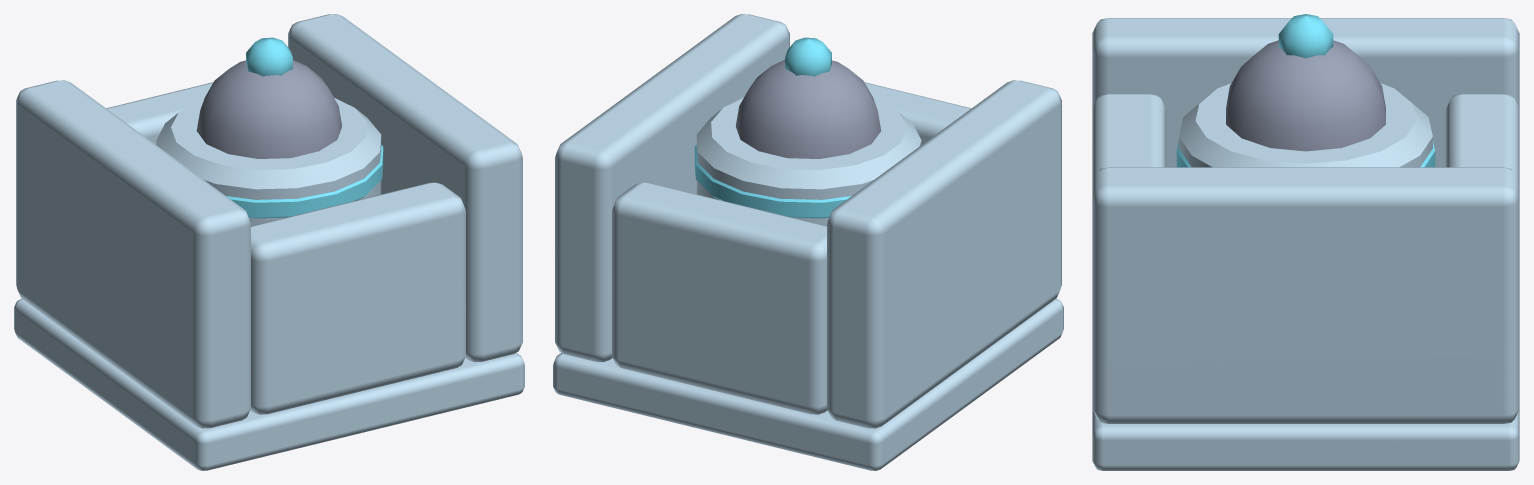
The model's file is R4X_DeployableShieldGenerator.fbx.
3 renders of one model, left to right at view 1: azimuth 30°, elevation 25°; view 2: azimuth 150°, elevation 25°; view 3: azimuth 270°, elevation 25°, orthographic. The views are drawn at different scales.
Visible parts, largest first — view 1: R4X_DeployableShieldGenerator_Body, R4X_DeployableShieldGenerator_Payload; view 2: R4X_DeployableShieldGenerator_Body, R4X_DeployableShieldGenerator_Payload; view 3: R4X_DeployableShieldGenerator_Body, R4X_DeployableShieldGenerator_Payload.
Boxes of the visible parts, left/top/right/bottom form: R4X_DeployableShieldGenerator_Body: left=14, top=14, right=524, bottom=470; R4X_DeployableShieldGenerator_Payload: left=156, top=37, right=383, bottom=225; R4X_DeployableShieldGenerator_Body: left=553, top=14, right=1063, bottom=470; R4X_DeployableShieldGenerator_Payload: left=694, top=37, right=921, bottom=225; R4X_DeployableShieldGenerator_Body: left=1092, top=18, right=1519, bottom=470; R4X_DeployableShieldGenerator_Payload: left=1176, top=14, right=1435, bottom=167.
Bounding box in the file's own units: 0.52 × 0.495 × 0.52.
